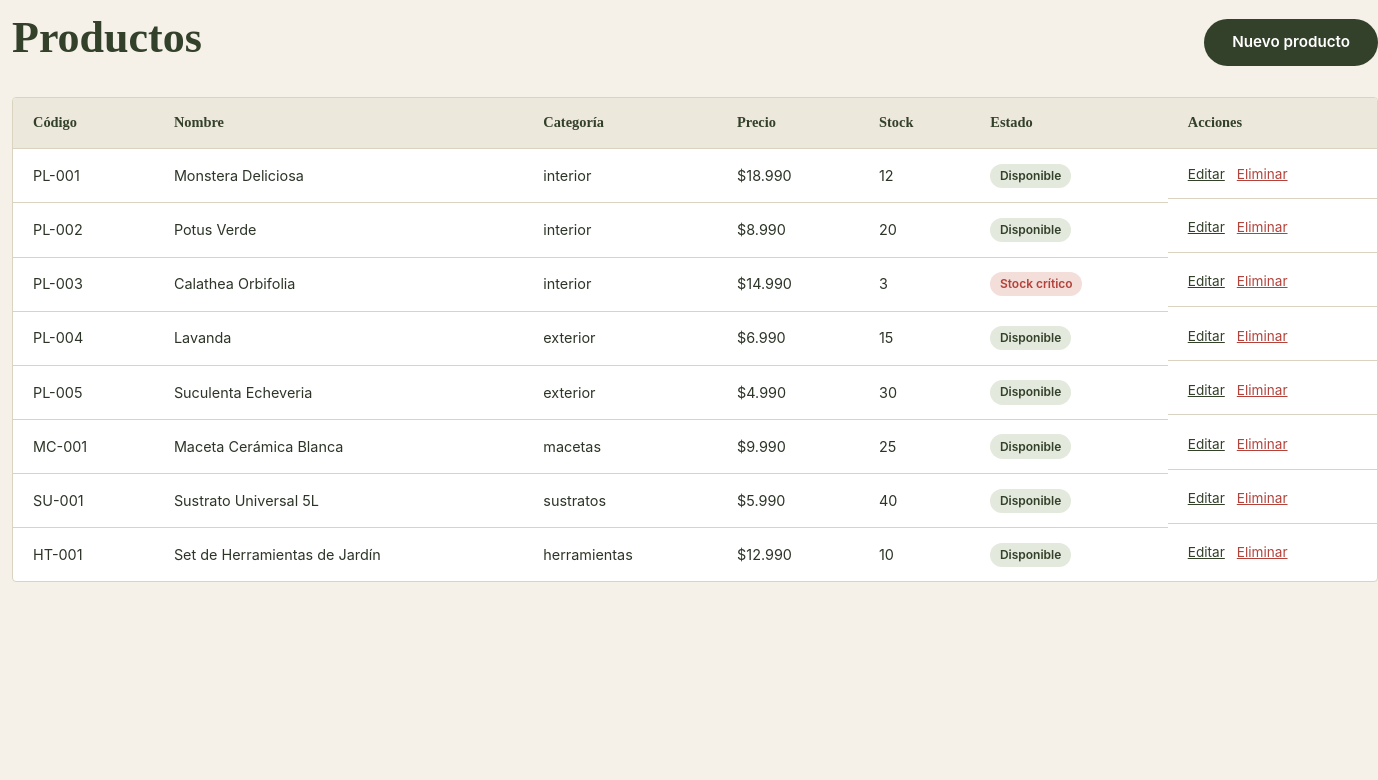
Scenario: AdminProductos › elimina un producto cuando se confirma (mock de window.confirm)
This screenshot has width=1378, height=780.
Click the button "Eliminar" in the row of "PL-004" at (1262, 336), box [1237,326,1288,346]
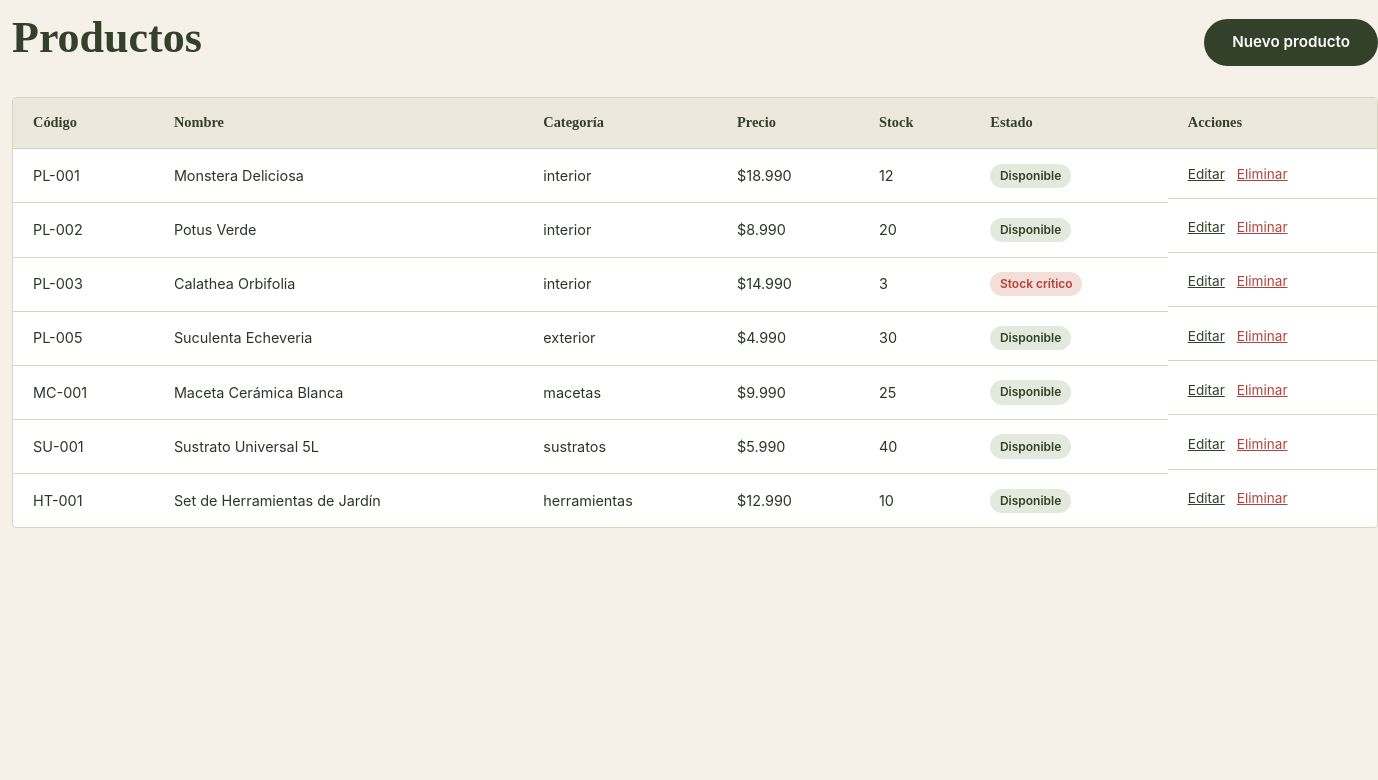
Check: the text "Lavanda" is gone
